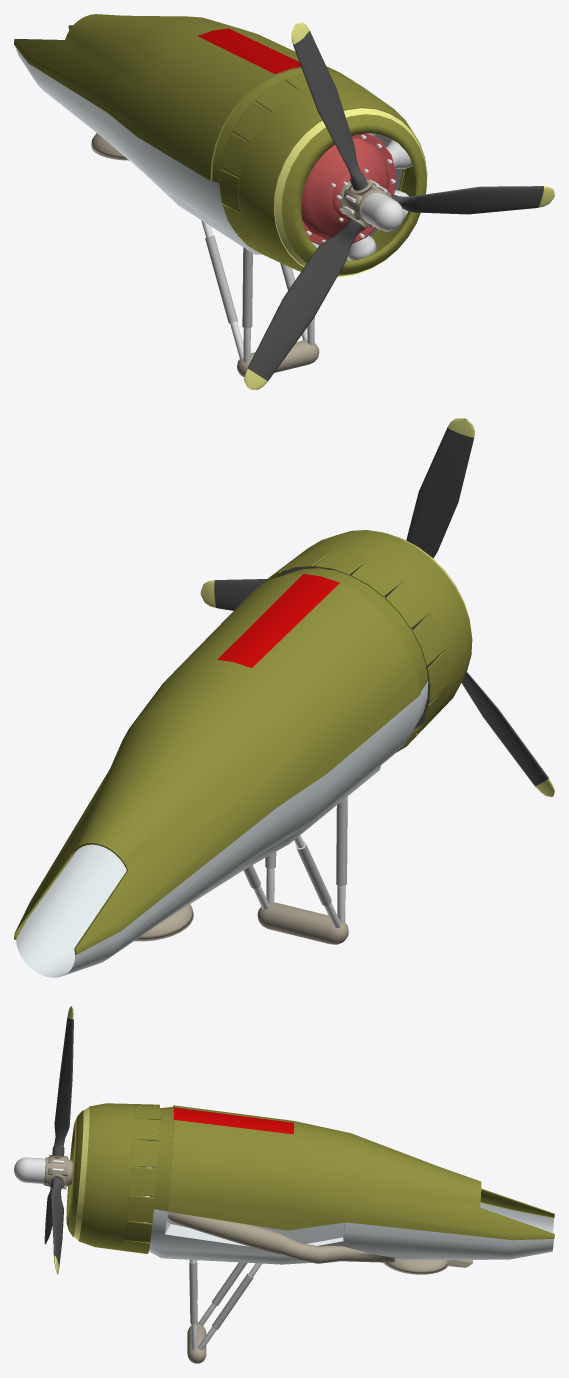
Rendered from agrvai.gltf.
3 views of the same model, one above another, from view 1: azimuth 30°, elevation 25°; view 2: azimuth 150°, elevation 25°; view 3: azimuth 270°, elevation 25° (orthographic). The views are drawn at different scales.
Parts seen in each view (by area): view 1: pasted__polySurface39, pasted__polySurface38, pasted__polySurface200, pasted__polySurface40, pasted__polySurface199, pasted__polySurface198, pasted__polySurface288, pasted__polySurface197, pasted__polySurface286, pasted__polySurface289, pasted__polySurface159, pasted__polySurface158 (+5 smaller); view 2: pasted__polySurface39, pasted__polySurface38, pasted__polySurface199, pasted__polySurface200, pasted__polySurface289, pasted__polySurface198, pasted__polySurface286, pasted__polySurface159, pasted__polySurface288, pasted__polySurface160, pasted__polySurface158, pasted__polySurface78 (+2 smaller); view 3: pasted__polySurface39, pasted__polySurface38, pasted__polySurface37, pasted__polySurface199, pasted__polySurface78, pasted__polySurface198, pasted__polySurface146, pasted__polySurface287, pasted__polySurface197, pasted__polySurface145, pasted__polySurface147, pasted__polySurface285 (+4 smaller).
Boxes of the visible parts, x1,y1,x2,y2 form: pasted__polySurface39: (14,14,352,254); pasted__polySurface38: (238,83,427,277); pasted__polySurface200: (244,218,362,389); pasted__polySurface40: (301,133,396,245); pasted__polySurface199: (291,22,367,190); pasted__polySurface198: (390,186,554,214); pasted__polySurface288: (201,220,243,359); pasted__polySurface197: (361,192,403,231); pasted__polySurface286: (242,247,252,362); pasted__polySurface289: (237,340,319,377); pasted__polySurface159: (232,102,271,142); pasted__polySurface158: (221,133,249,177); pasted__polySurface39: (14,568,428,977); pasted__polySurface38: (276,530,472,734); pasted__polySurface199: (406,418,474,558); pasted__polySurface200: (461,671,554,796); pasted__polySurface289: (257,902,348,944); pasted__polySurface198: (200,579,266,610); pasted__polySurface286: (336,796,347,923); pasted__polySurface159: (385,581,429,628); pasted__polySurface288: (294,835,341,927); pasted__polySurface160: (351,559,402,596); pasted__polySurface158: (412,613,445,666); pasted__polySurface78: (134,904,193,941); pasted__polySurface39: (144,1105,554,1264); pasted__polySurface38: (66,1103,133,1250); pasted__polySurface37: (168,1212,395,1263); pasted__polySurface199: (52,1006,73,1156); pasted__polySurface78: (383,1259,472,1274); pasted__polySurface198: (50,1177,63,1274); pasted__polySurface146: (129,1166,157,1196); pasted__polySurface287: (198,1263,261,1350); pasted__polySurface197: (14,1157,45,1183); pasted__polySurface145: (131,1139,158,1167); pasted__polySurface147: (126,1195,154,1222); pasted__polySurface285: (189,1259,197,1349).
Size of the model in its own units: 0.00847 by 0.0109 by 0.0165.
